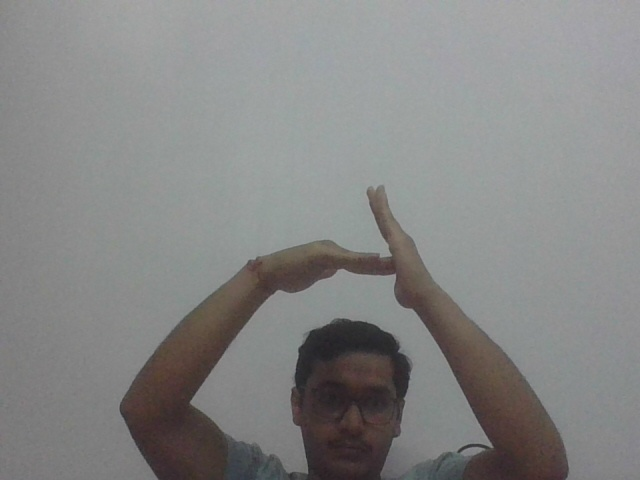Z: (269, 180, 449, 315)
